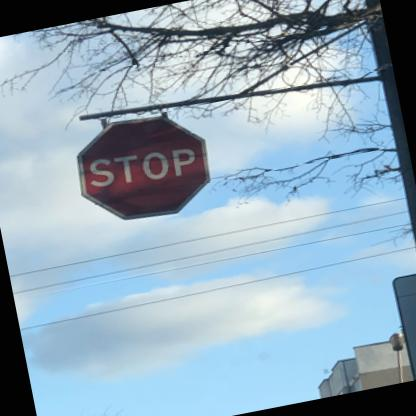stop: (66, 103, 216, 229)
